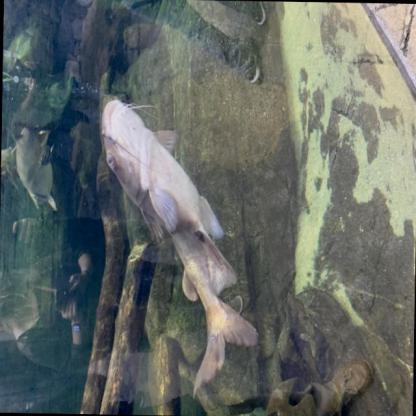fish: (97, 100, 266, 400), (148, 91, 196, 184)
